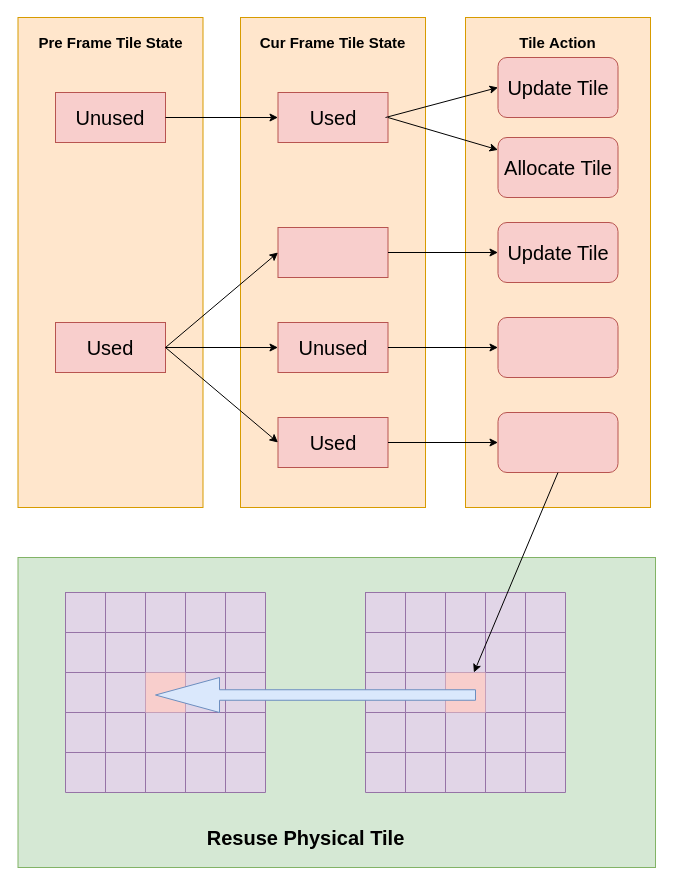
Image size: 673x885. Some labels were removed from this diagram. The centre of each missing label's shape, as x and y in pixels:
Cache Miss: point (332, 252)
Cached: point (557, 442)
Remove Tile: point (557, 347)
